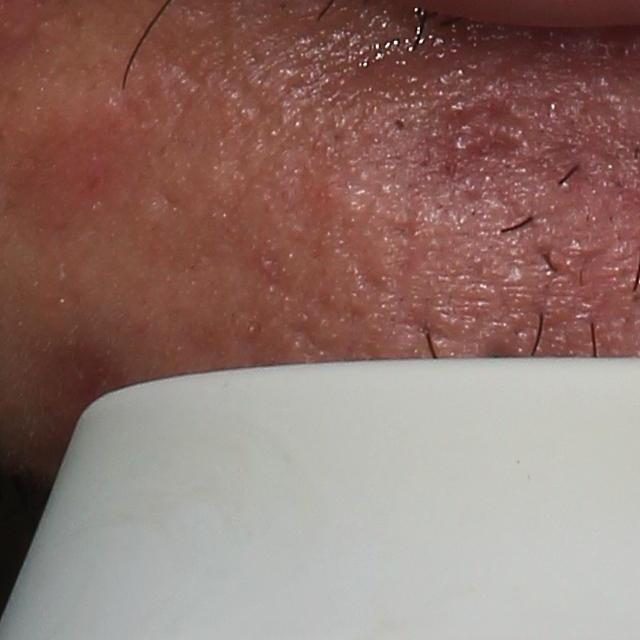atrophic_scar: (332, 214, 388, 321), (445, 95, 526, 136), (455, 138, 526, 165)
